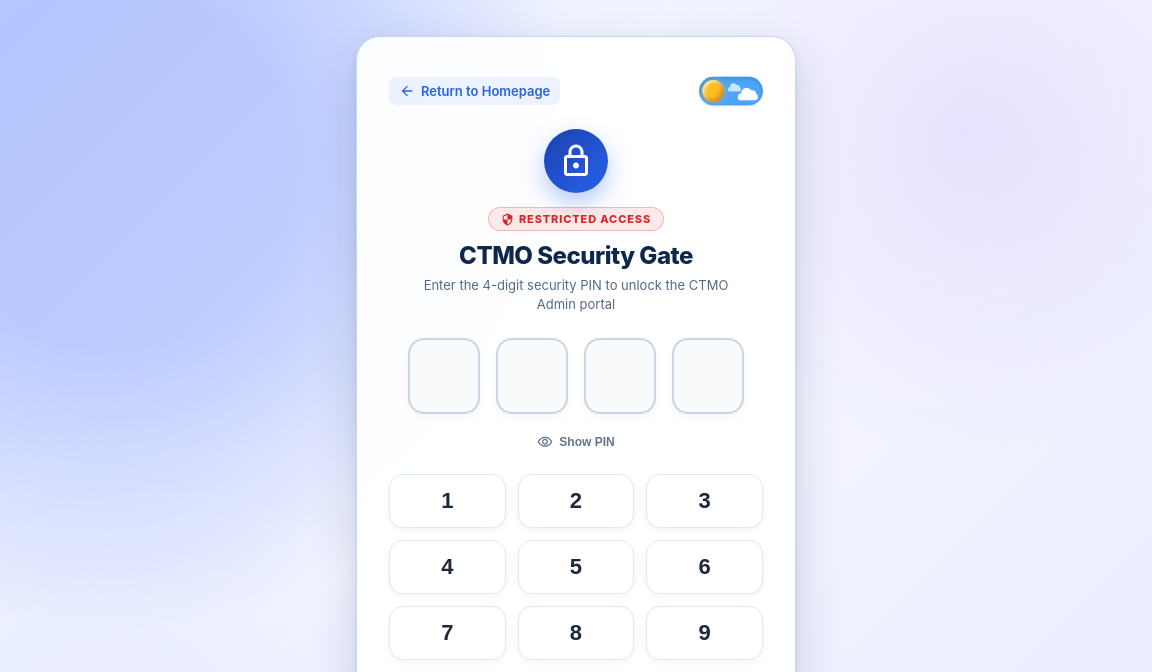
AdminSecurityGate Component › toggles PIN visibility
What coordinates should you click on to do the following:
click the button with aria-label "Show PIN digits"
I would click on:
 (576, 442)
Its box is [529,430,623,454].
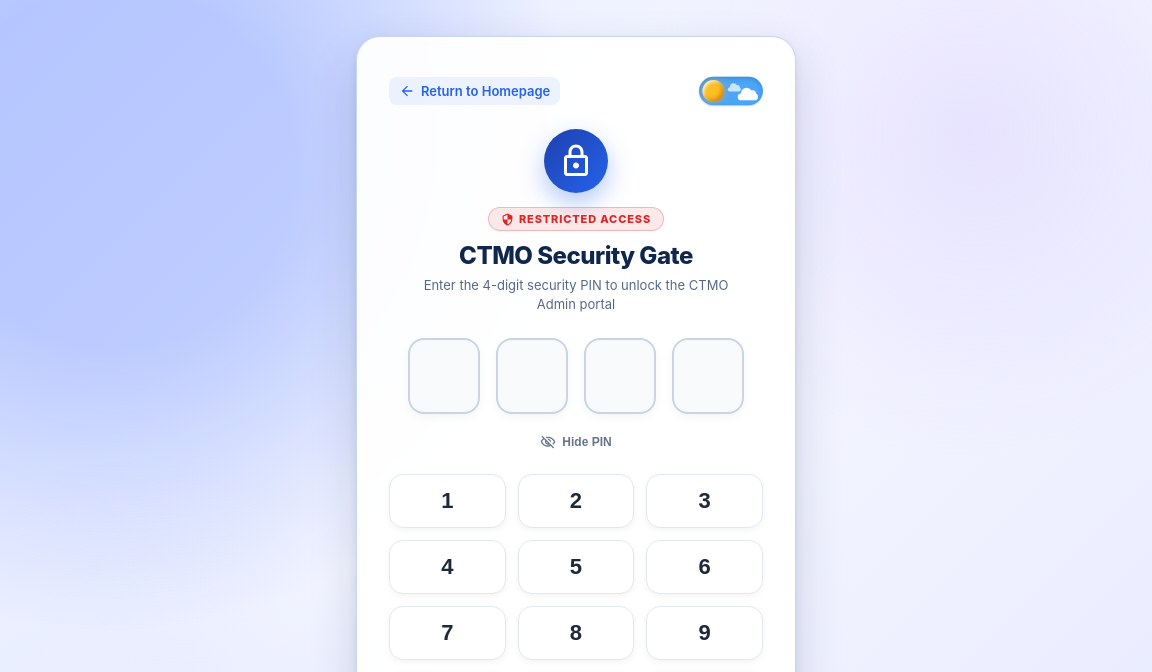
Expected: the button with aria-label "Hide PIN digits" is shown, [532,430,620,454]
